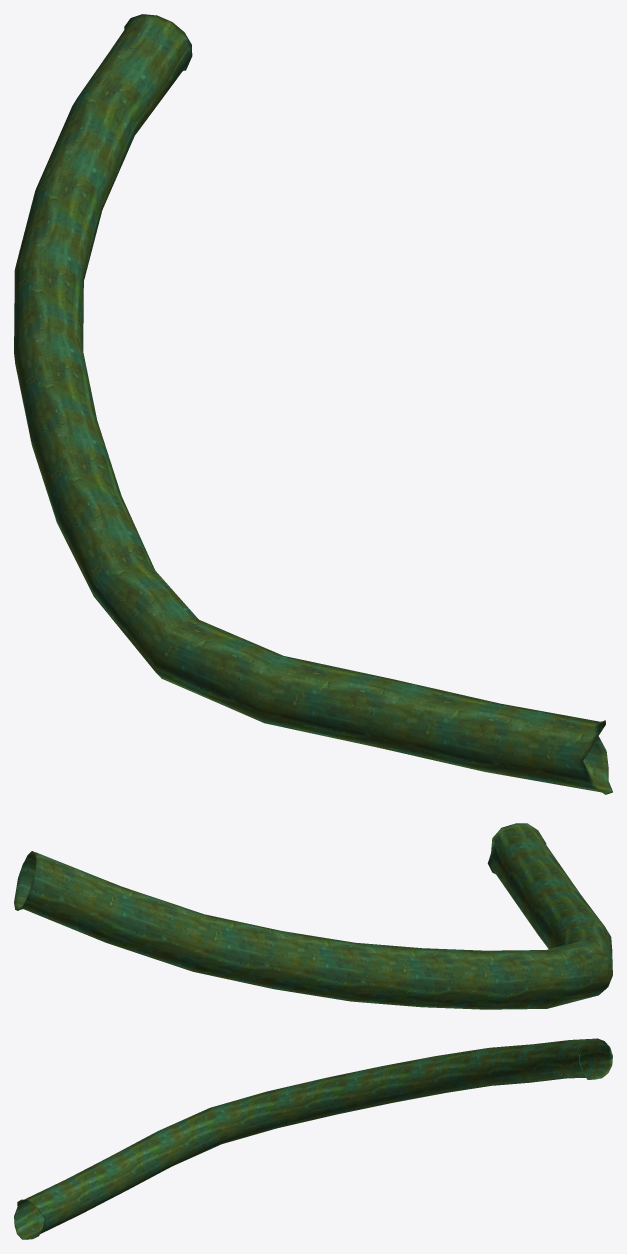
Rendered from MIRKWOOD_INSIDETUBE.fbx.
3 views of the same model, one above another, from view 1: azimuth 30°, elevation 25°; view 2: azimuth 150°, elevation 25°; view 3: azimuth 270°, elevation 25° (orthographic). The views are drawn at different scales.
Visible parts, largest first — view 1: MIRKWOOD_INSIDETUBE; view 2: MIRKWOOD_INSIDETUBE; view 3: MIRKWOOD_INSIDETUBE.
Part boxes in pixels (x1,y1,x2,y2): MIRKWOOD_INSIDETUBE: [14, 14, 612, 794]; MIRKWOOD_INSIDETUBE: [14, 823, 612, 1009]; MIRKWOOD_INSIDETUBE: [14, 1038, 612, 1239].
Size of the model in its own units: 375818 by 368735 by 930180.
Materials: 1 (1 with a texture image).
